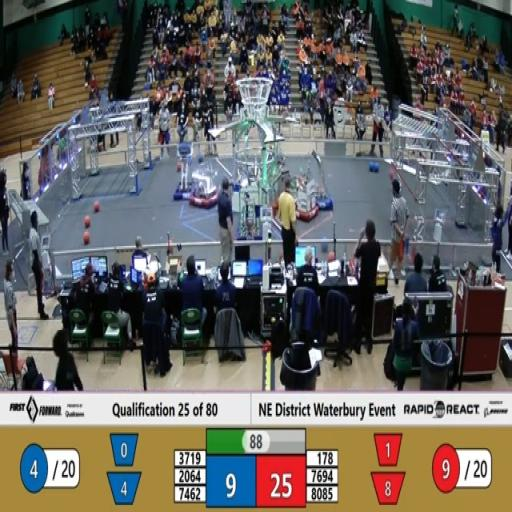robot: (228, 170, 270, 244), (286, 166, 322, 228), (188, 157, 224, 212), (168, 136, 197, 204), (306, 155, 335, 218)
